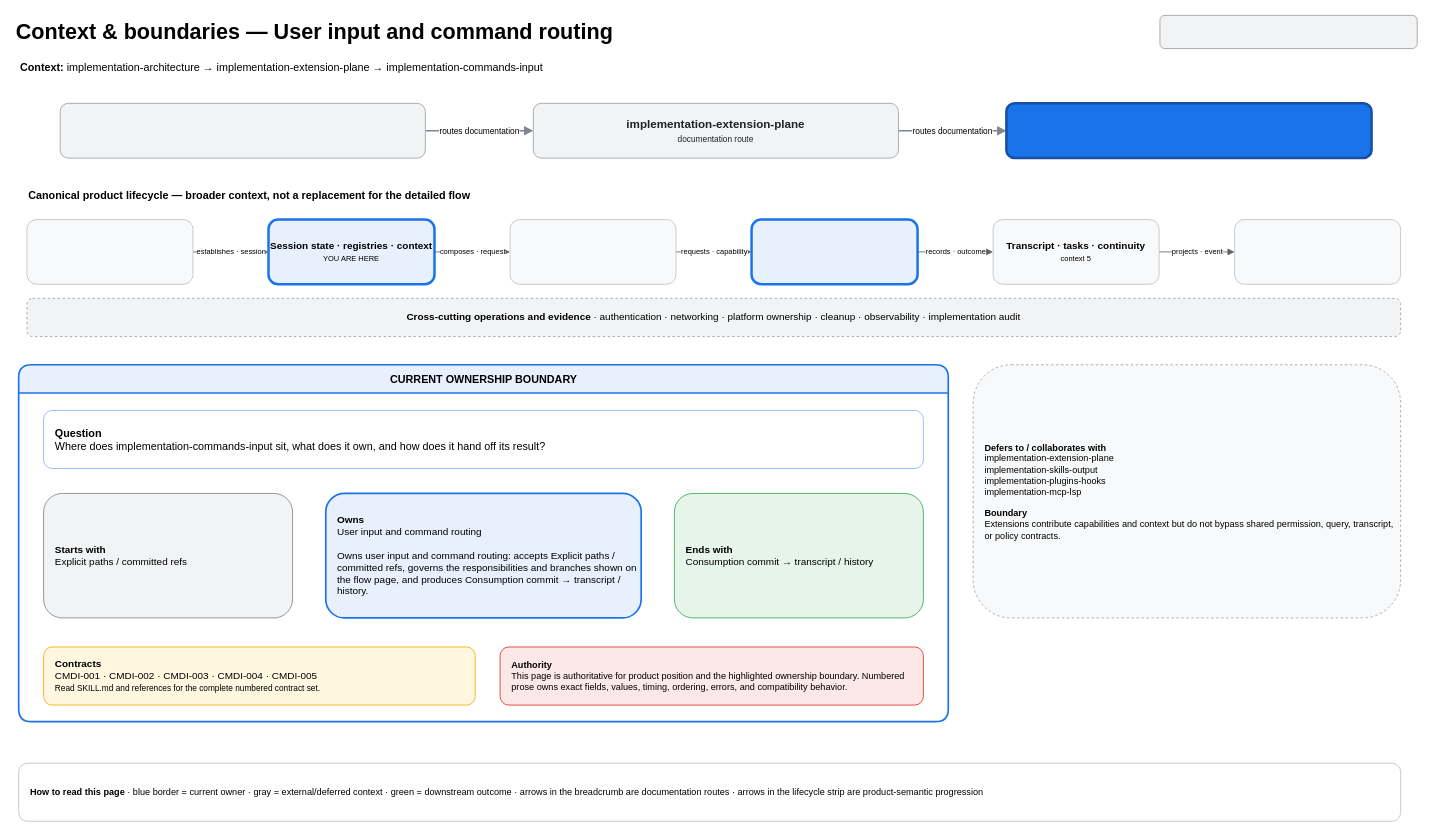
Image size: 1432x836. Some labels were removed from this diagram. Here are the shapes that lost their labels. From the top down, the centre of each, then its label:
point (1288, 32): architecture overview · template 2.0-context-flow
point (242, 130): implementation-architecture documentation route
point (1188, 130): implementation-commands-input YOU ARE HERE
point (109, 251): Entrypoint · identity · policy context 1
point (592, 251): Query engine · model stream context 3
point (834, 251): Capability decision · execution YOU ARE HERE
point (1317, 251): Surface · remote projection context 6
